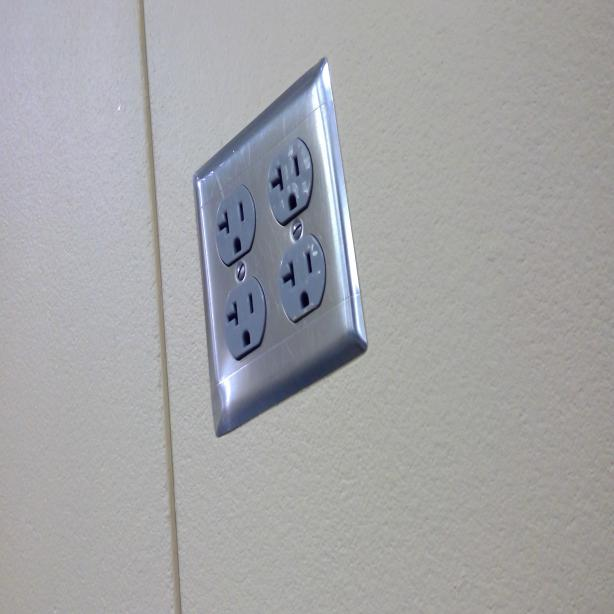typeb: (277, 246, 322, 314), (266, 148, 310, 213), (212, 191, 252, 258), (224, 284, 260, 348)
